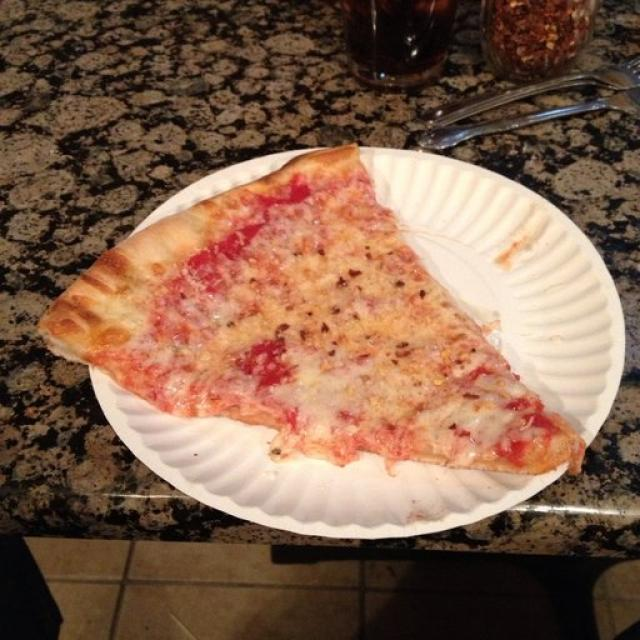Cheese: (174, 253, 441, 402)
Pizza: (41, 145, 586, 479)
